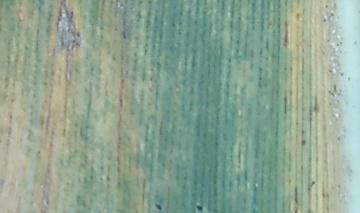tarspot: (306, 179, 316, 192), (153, 202, 162, 213), (194, 203, 204, 212), (294, 11, 301, 23), (299, 137, 306, 148), (321, 16, 328, 26), (351, 39, 359, 47), (332, 1, 338, 11), (338, 71, 345, 79), (74, 40, 81, 48), (75, 30, 81, 39), (335, 134, 341, 143), (292, 206, 299, 213), (323, 2, 329, 10), (328, 10, 334, 18)
